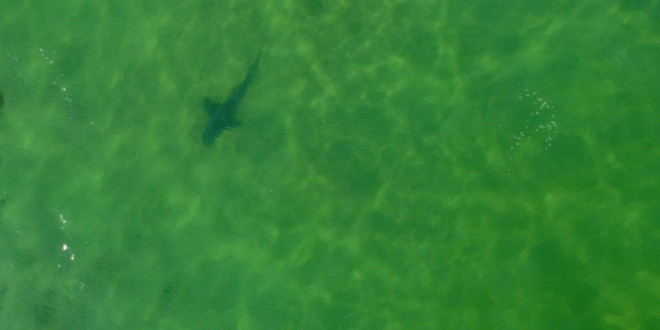shark: (191, 44, 268, 158)
